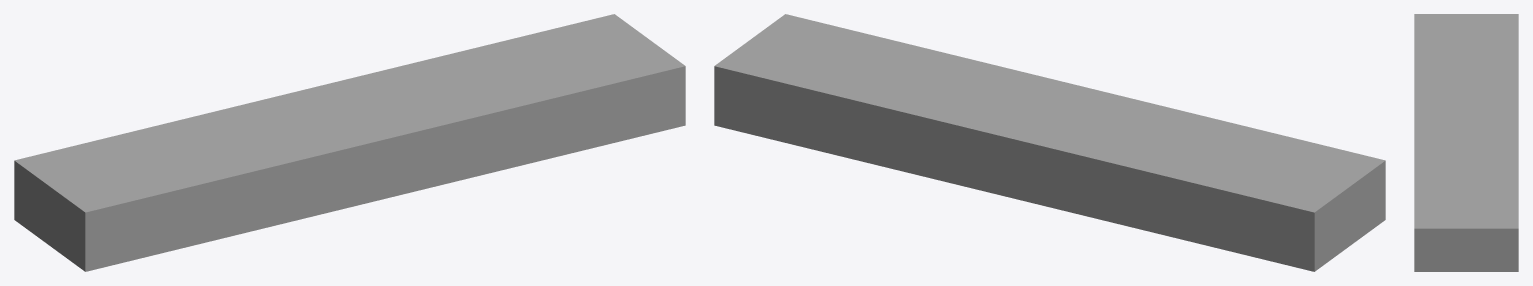
The model's file is pendaflour_lamp_01.glb.
The picture shows the model from 3 angles, left to right: view 1: azimuth 30°, elevation 25°; view 2: azimuth 150°, elevation 25°; view 3: azimuth 270°, elevation 25°; orthographic projection. The views are drawn at different scales.
Visible parts, largest first — view 1: Cube; view 2: Cube; view 3: Cube.
Part boxes in pixels (x1,y1,x2,y2): Cube: (14,14,685,271); Cube: (714,14,1385,271); Cube: (1414,14,1518,271).
Size of the model in its own units: 1.6 by 0.1509 by 0.3282.
1 material, 1 textured.
